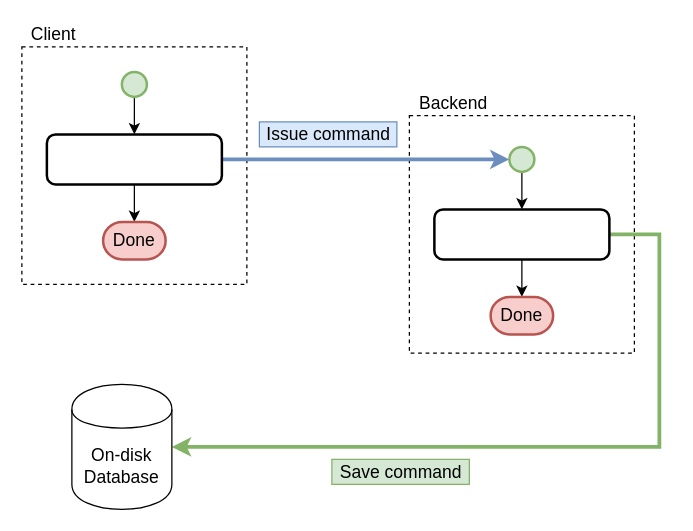
The diagram is 693 pixels wide and 531 high, and some of its shapes have lost their labels. The box of each missing label's shape, as (x1, y1, x2, y2) in pixels:
Enqueue comand: (432, 208, 610, 260)
Send command: (45, 132, 222, 185)
